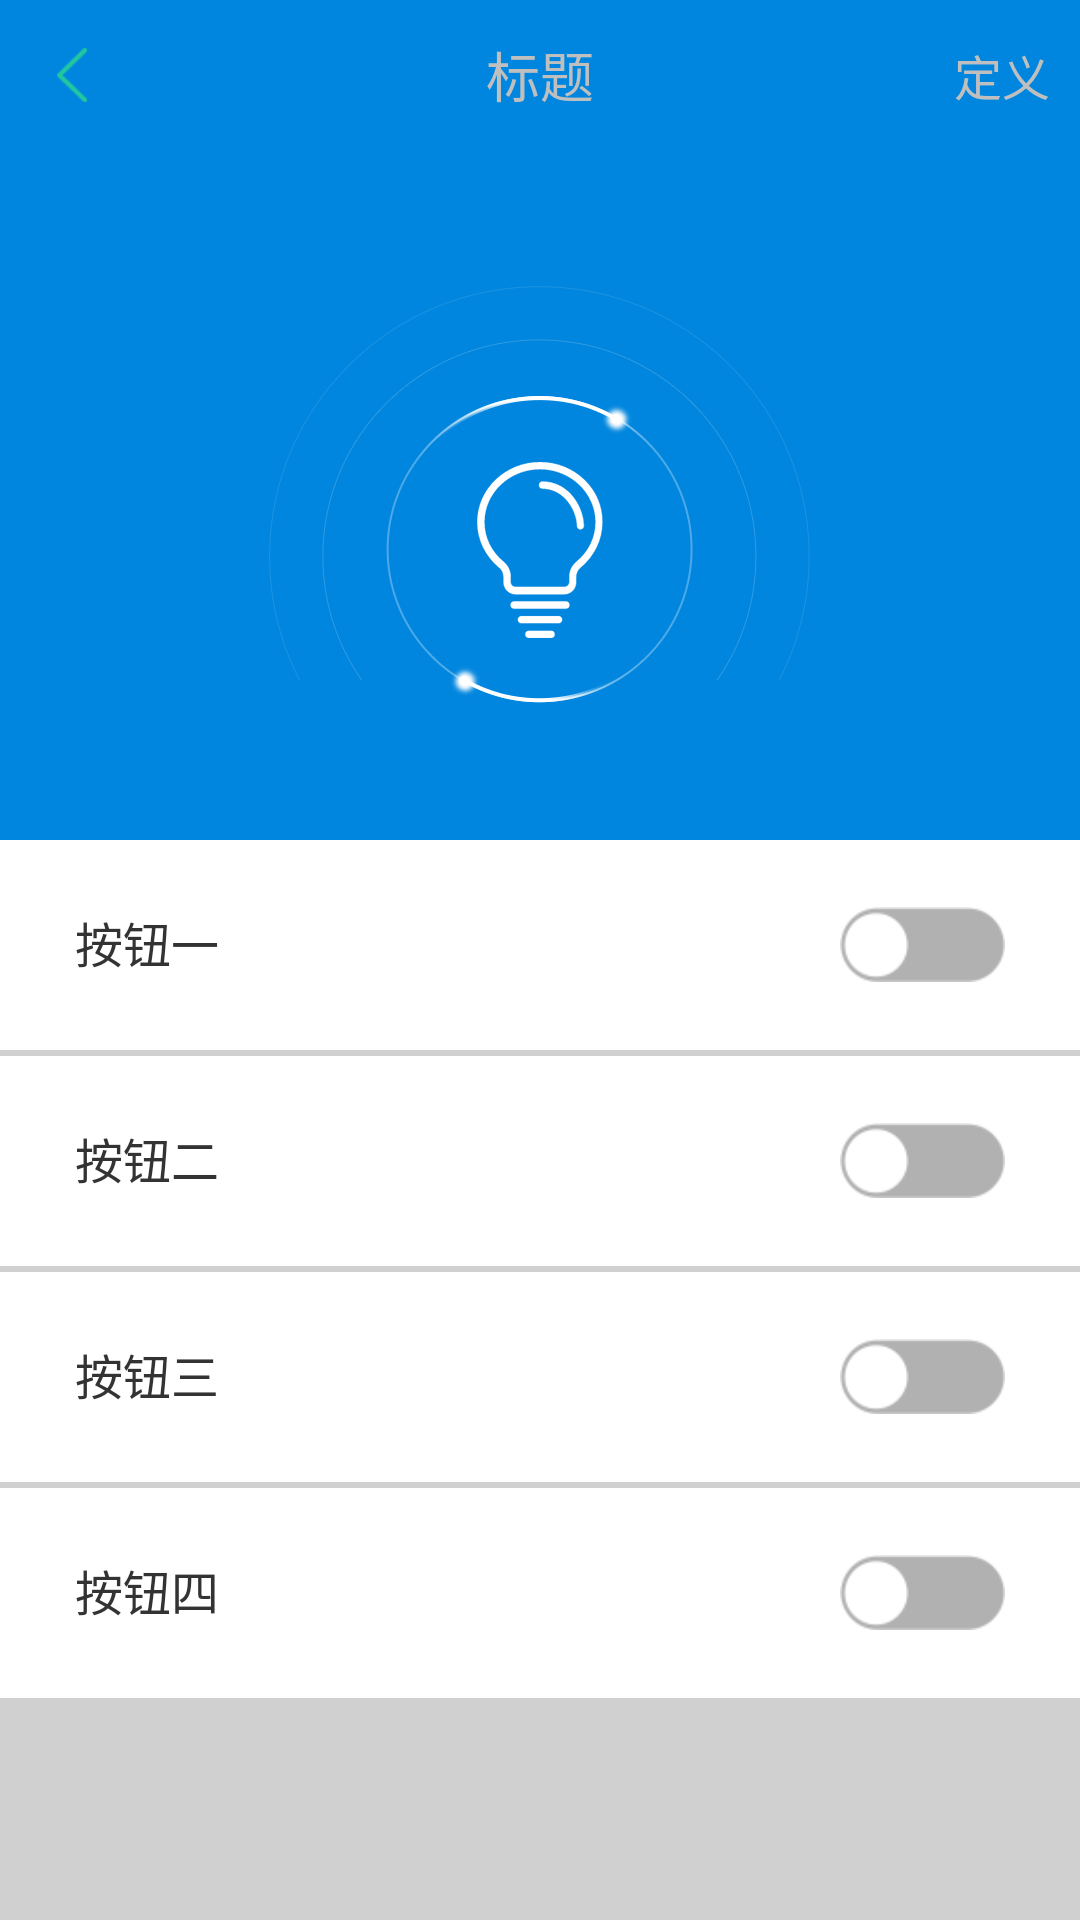

Screen size 1080*1920. Icon name, then its center in pixels as point (x, y):
return: point (72, 75)
